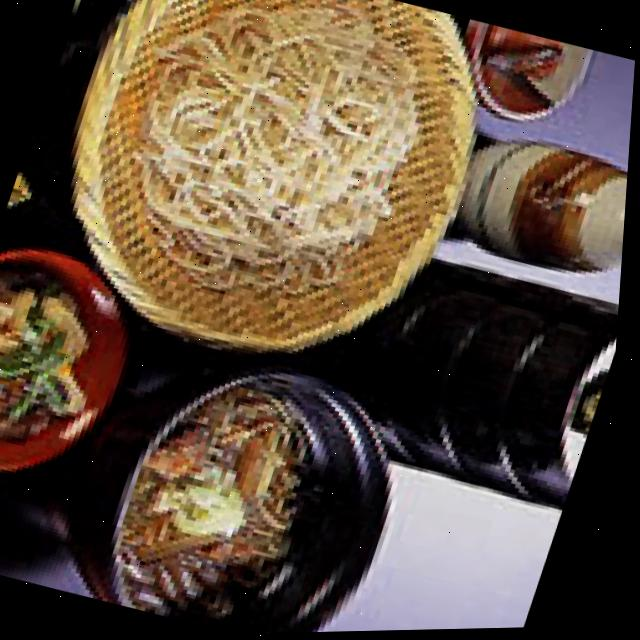面条主食: (8, 0, 528, 409)
